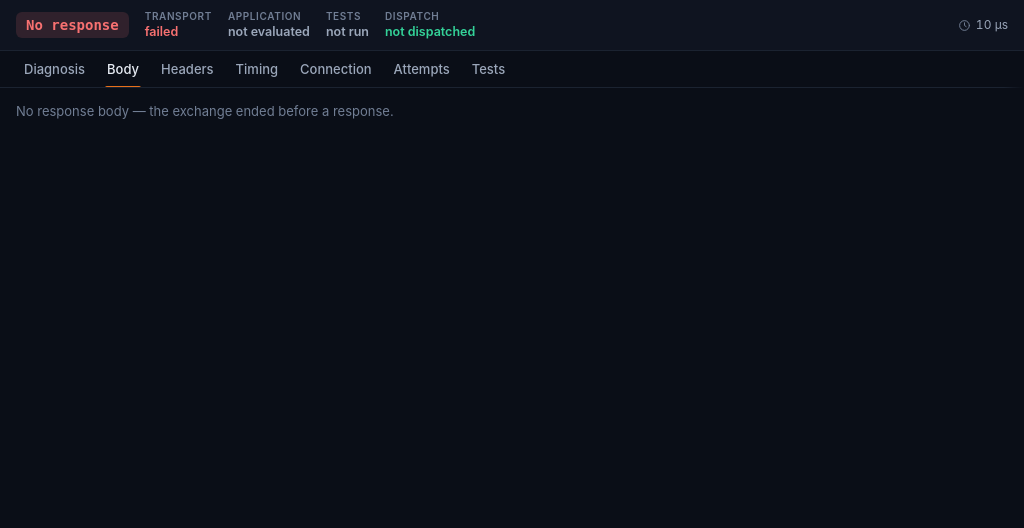
Test case: Workload API evidence › shows the endpoint, the SVID and the JWT-SVID checks on the Connection tab
Click the tab "Connection" at (336, 69), box [290, 51, 382, 87]
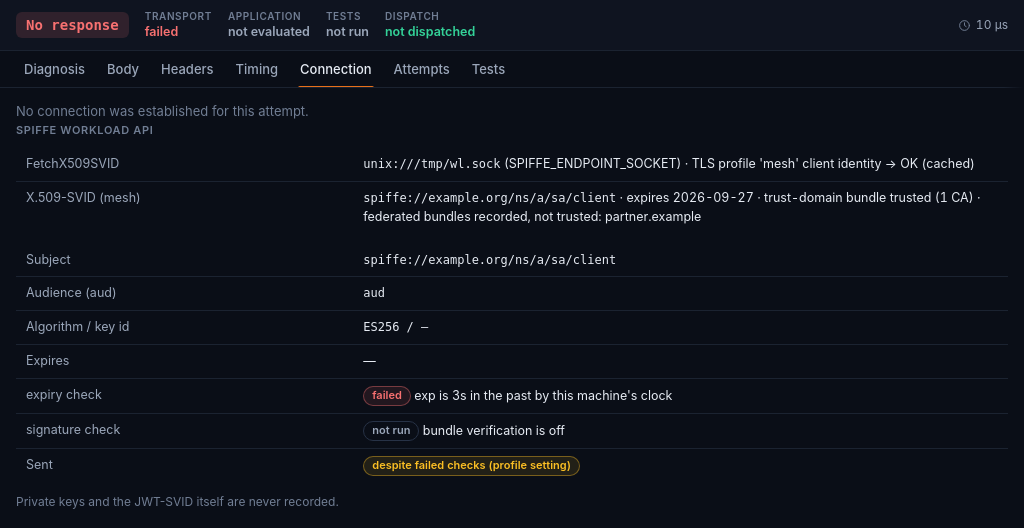
expect the element with test id "workload-evidence" shows "unix:///tmp/wl.sock (SPIFFE_ENDPOINT_SOCKET)": met
expect the element with test id "workload-evidence" shows "OK (cached)": met, box [900, 156, 975, 171]
expect the element with test id "workload-evidence" shows "trust-domain bundle trusted (1 CA)": met, box [764, 190, 974, 205]
